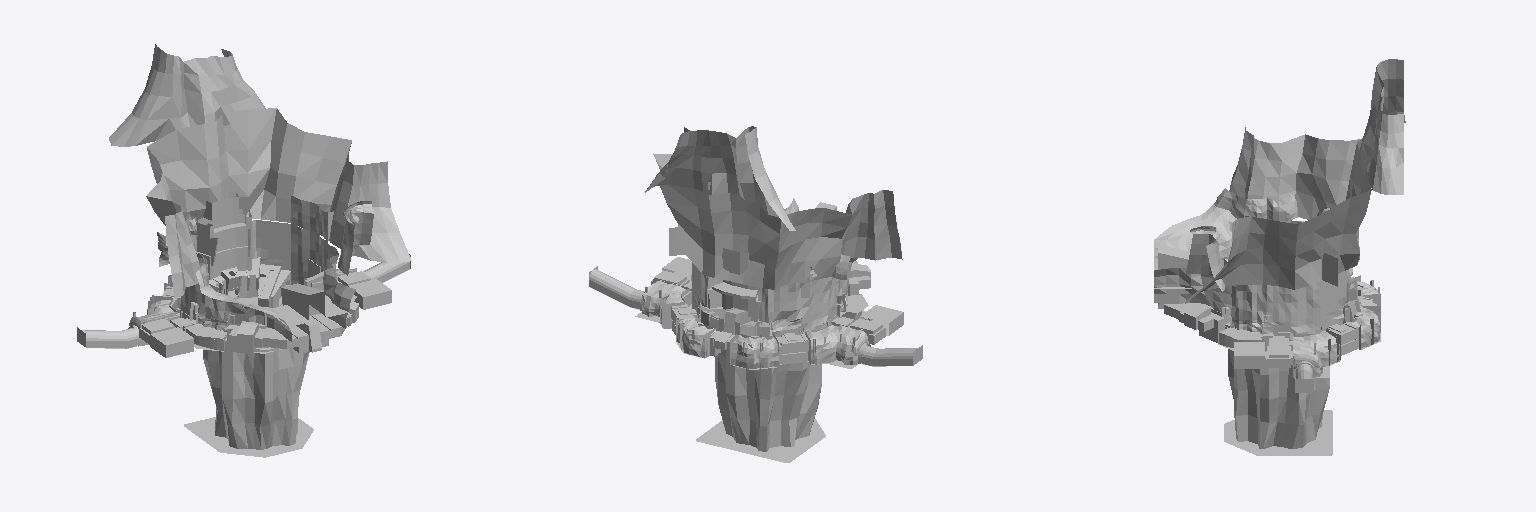
Rendered from nucleus.obj.
3 renders of one model, left to right at view 1: azimuth 30°, elevation 25°; view 2: azimuth 150°, elevation 25°; view 3: azimuth 270°, elevation 25°, orthographic.
Bounding box in the file's own units: 307 × 320 × 206.